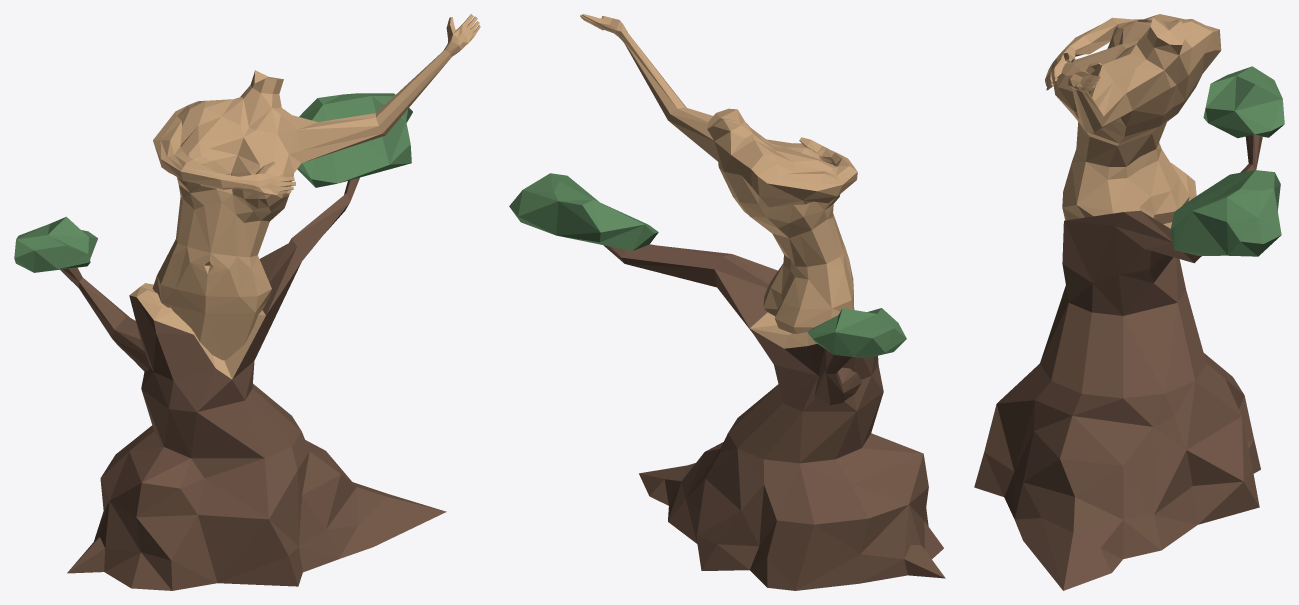
The model's file is _sculptire_4.fbx.
The picture shows the model from 3 angles, left to right: view 1: azimuth 30°, elevation 25°; view 2: azimuth 150°, elevation 25°; view 3: azimuth 270°, elevation 25°; orthographic projection. The views are drawn at different scales.
Parts seen in each view (by area): view 1: sculptire_4; view 2: sculptire_4; view 3: sculptire_4.
Part boxes in pixels (left/top/right/bottom): sculptire_4: left=14, top=14, right=480, bottom=590; sculptire_4: left=509, top=14, right=945, bottom=590; sculptire_4: left=974, top=14, right=1284, bottom=590.
Size of the model in its own units: 209 by 239 by 124.
